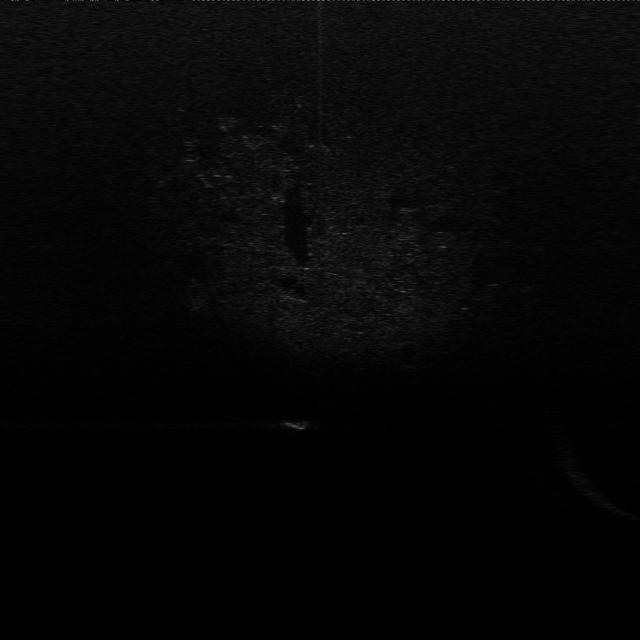square cage: (278, 412, 320, 434)
